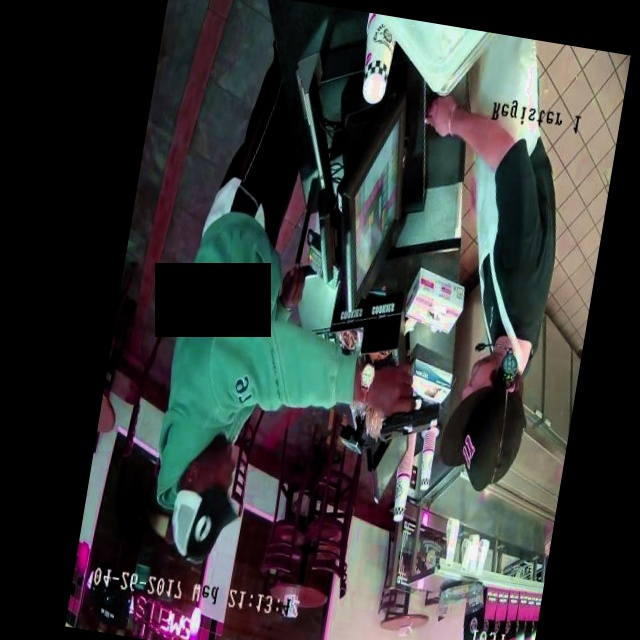gun: (365, 366, 451, 466)
